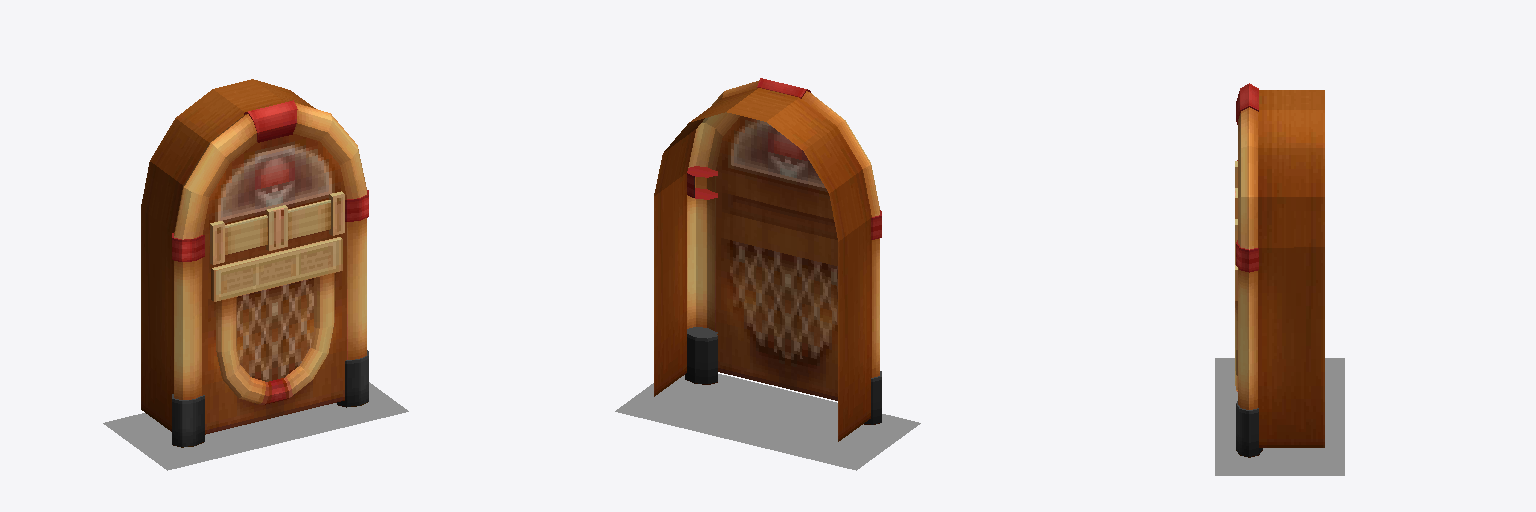
3 views of the same model, side by side, from view 1: azimuth 30°, elevation 25°; view 2: azimuth 150°, elevation 25°; view 3: azimuth 270°, elevation 25° (orthographic).
Parts seen in each view (by area): view 1: polySurface1.003; view 2: polySurface1.003; view 3: polySurface1.003.
Boxes of the visible parts, box(x1,y1,x2,y2) form: polySurface1.003: box(103, 79, 408, 470); polySurface1.003: box(615, 78, 920, 470); polySurface1.003: box(1215, 83, 1344, 475).
Size of the model in its own units: 2 by 2.55 by 0.9318.
Materials: 2 (1 with a texture image).